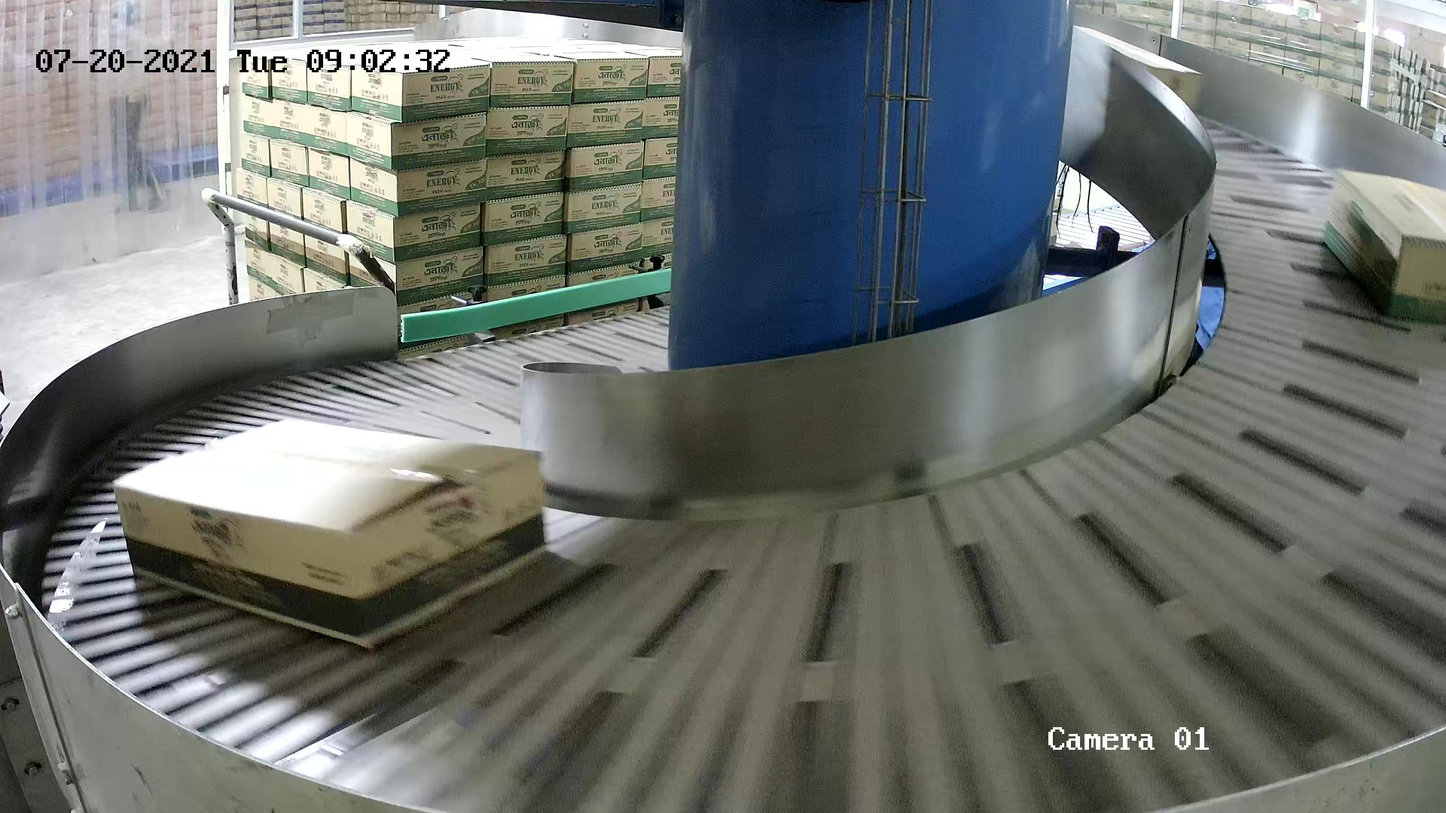Box: (111, 415, 555, 652), (1320, 166, 1446, 336)
